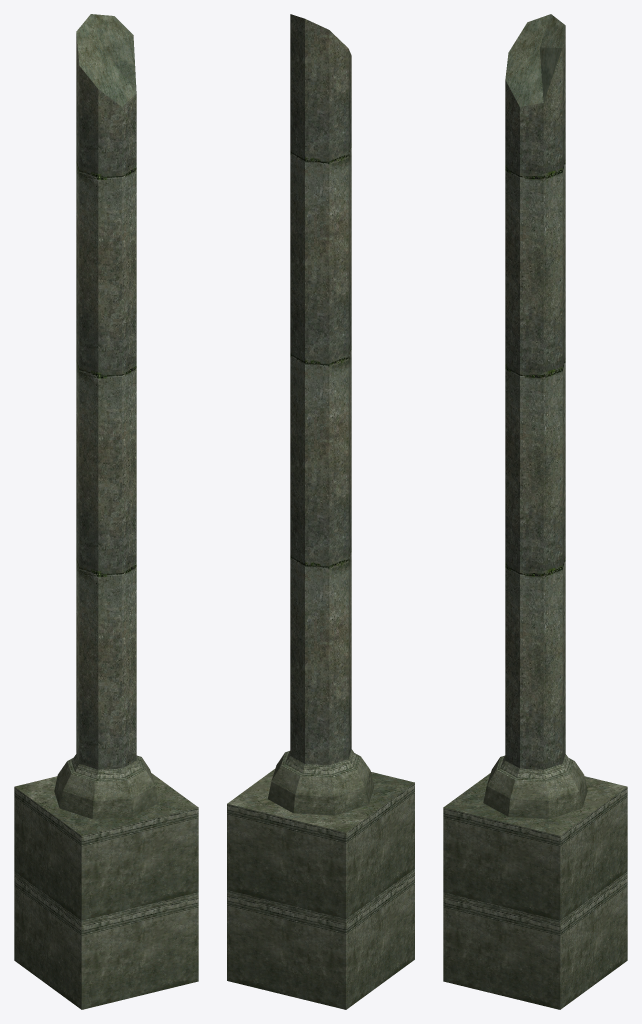
File: thm_dant_jedi_temple_pillar_l0.fbx
The picture shows the model from 3 angles, left to right: view 1: azimuth 30°, elevation 25°; view 2: azimuth 150°, elevation 25°; view 3: azimuth 330°, elevation 25°; orthographic projection.
Visible parts, largest first — view 1: mesh_node; view 2: mesh_node; view 3: mesh_node.
Part boxes in pixels (x1=…): mesh_node: x1=14, y1=14, x2=198, y2=1009; mesh_node: x1=227, y1=14, x2=414, y2=1009; mesh_node: x1=443, y1=14, x2=627, y2=1009.
Bounding box in the file's own units: 2 × 15.47 × 2.
